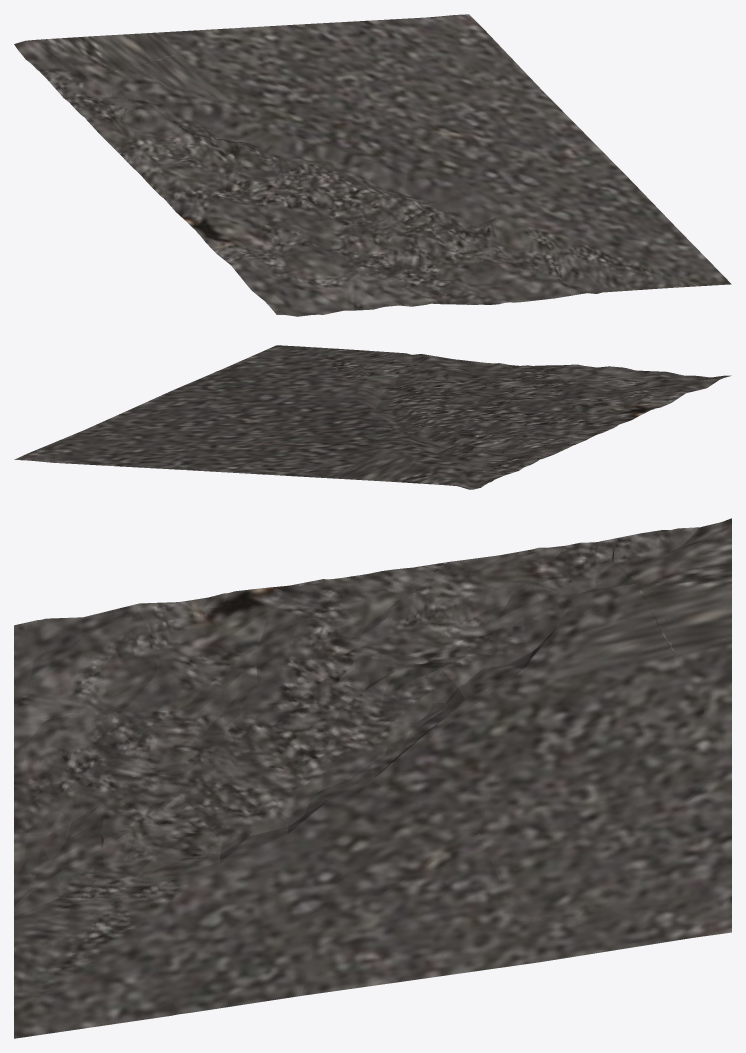
3 views of the same model, one above another, from view 1: azimuth 30°, elevation 25°; view 2: azimuth 150°, elevation 25°; view 3: azimuth 270°, elevation 25° (orthographic). The views are drawn at different scales.
Size of the model in its own units: 0.8373 by 0.2806 by 0.8374.
Materials: 3 (3 with a texture image).
